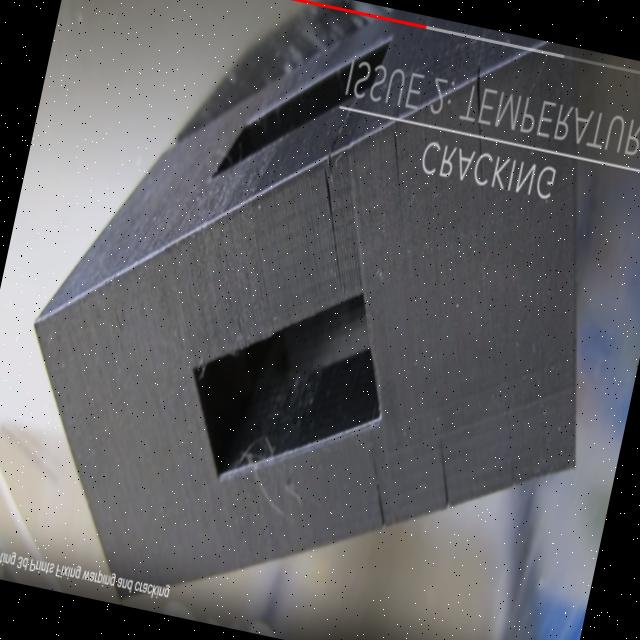cracks: (358, 412, 471, 568), (290, 118, 377, 282)
